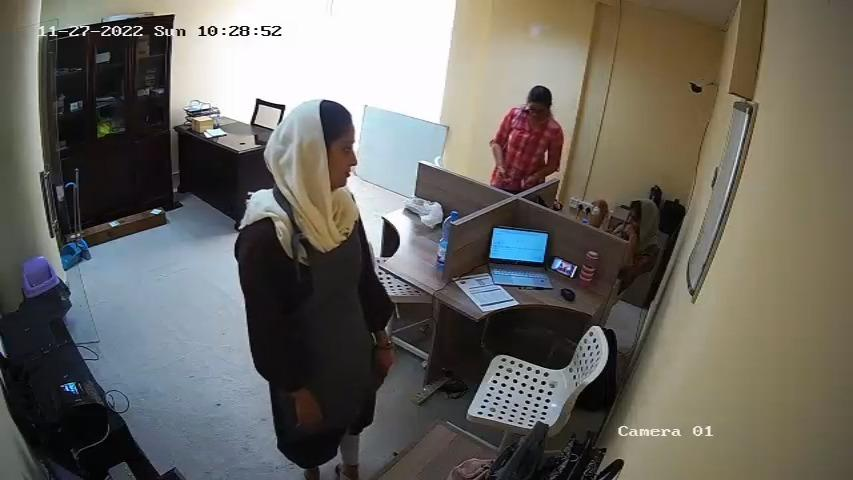apron: (275, 200, 371, 360)
